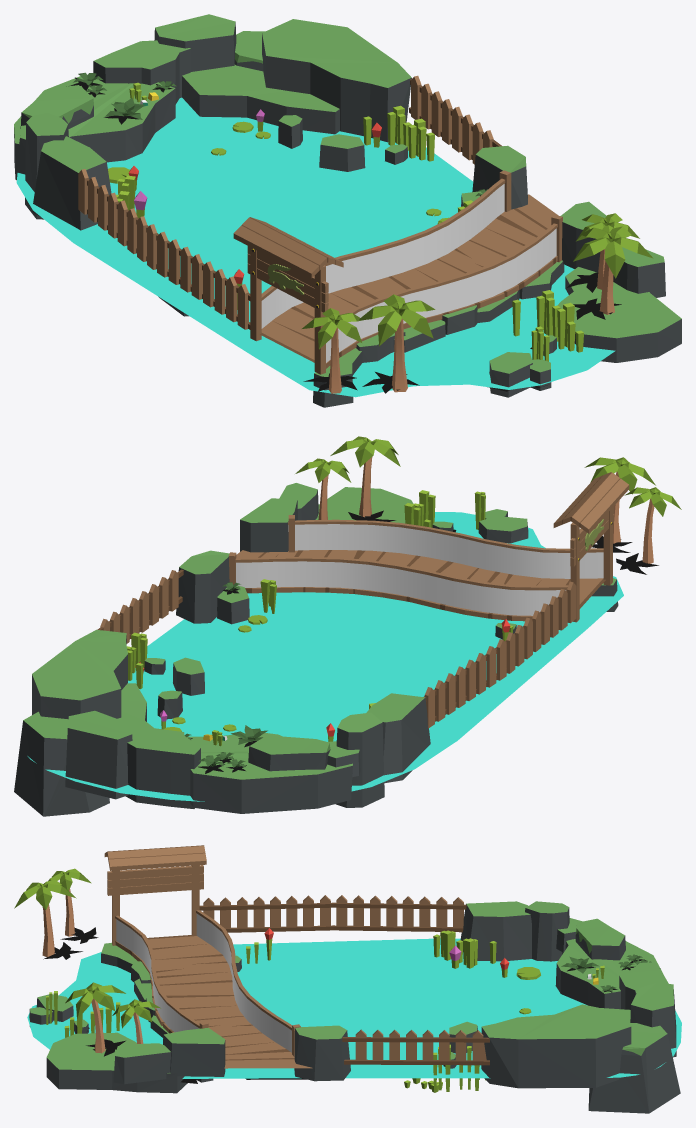
Rendered from xweilan_1005_2.FBX.
3 views of the same model, one above another, from view 1: azimuth 30°, elevation 25°; view 2: azimuth 150°, elevation 25°; view 3: azimuth 270°, elevation 25° (orthographic). The views are drawn at different scales.
Parts seen in each view (by area): view 1: xweilan_1005_2; view 2: xweilan_1005_2; view 3: xweilan_1005_2.
Boxes of the visible parts, bbox=[...] form: xweilan_1005_2: bbox=[14, 14, 681, 407]; xweilan_1005_2: bbox=[14, 436, 681, 816]; xweilan_1005_2: bbox=[14, 845, 681, 1113].
Size of the model in its own units: 4491 by 1960 by 8431.
